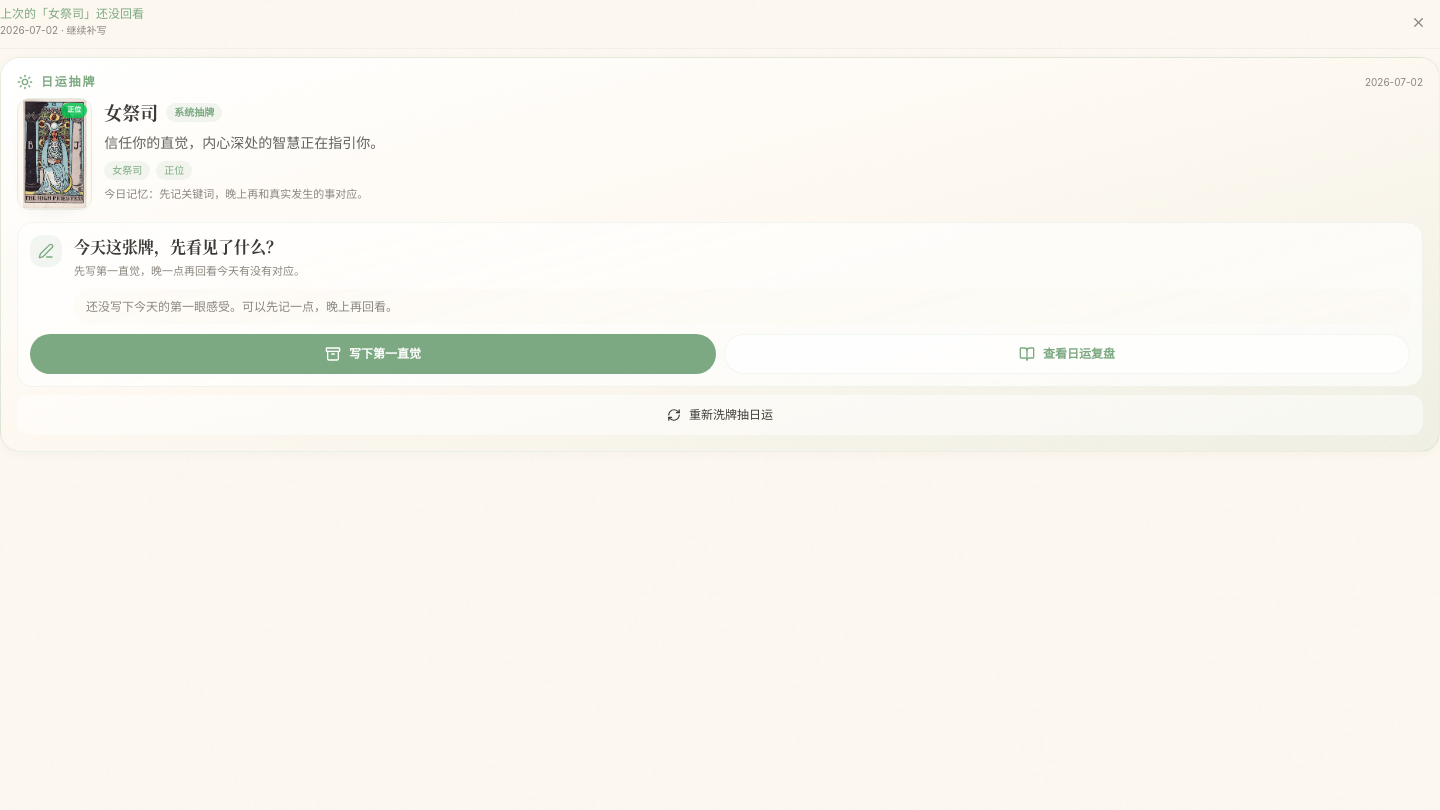
DailyFortuneCard › keeps text and the page open when saving fails
The image size is (1440, 810).
Step 1. Click the button "写下第一直觉" → x=373, y=354, box [30,334,716,374]
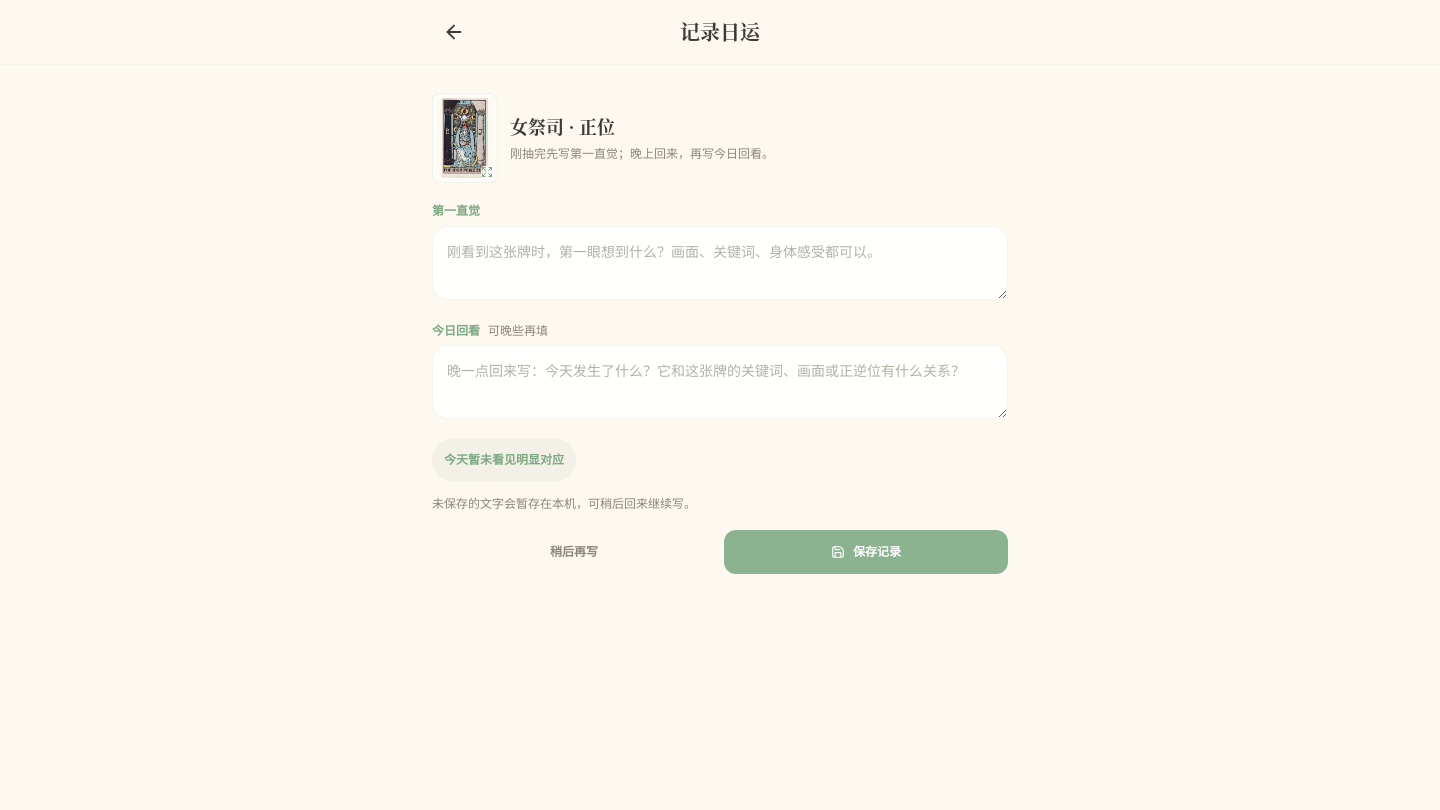
Step 2. Type "不要丢掉这段话" into the text box labelled "第一直觉" → x=720, y=263, box [432,226,1008,300]
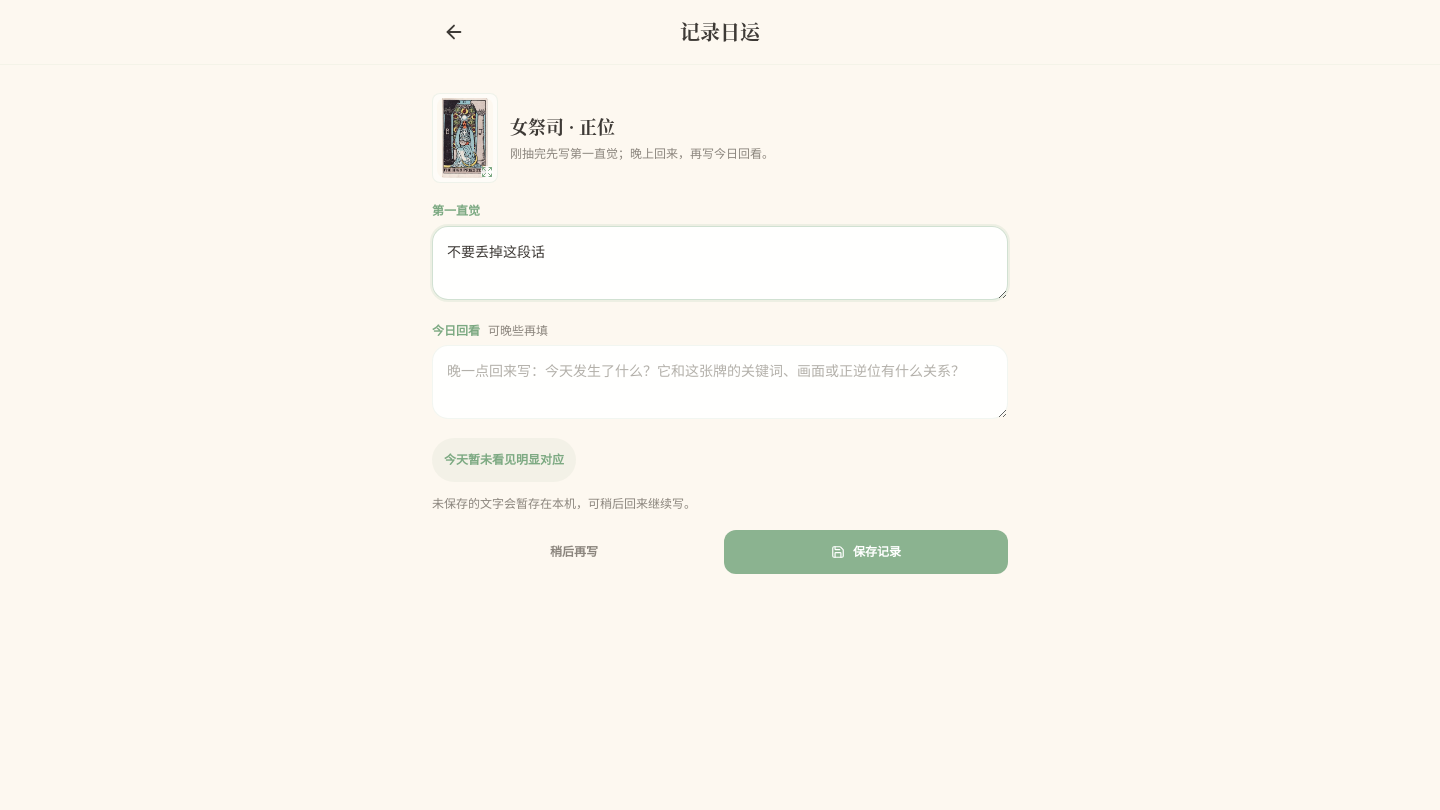
Step 3. Click the button "保存记录" → x=866, y=552, box [724,530,1008,574]
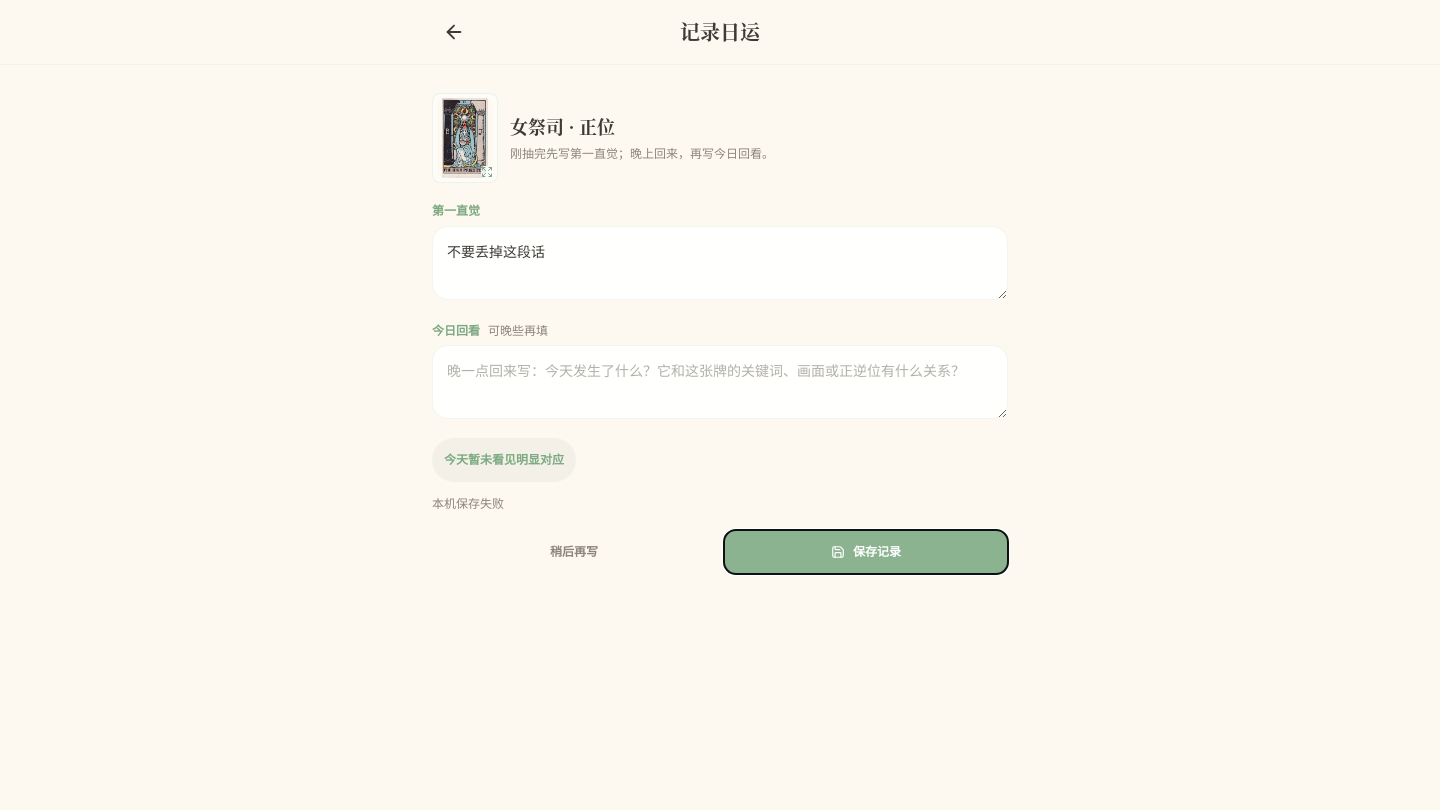
Now the element "记录日运" is shown
Now the message reads "本机保存失败", box [432,496,504,511]
